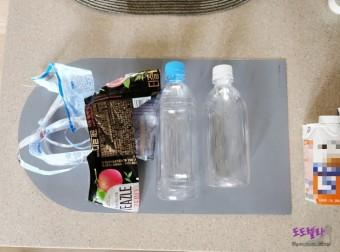plastic_bottle: (154, 58, 204, 204), (201, 61, 254, 190)
